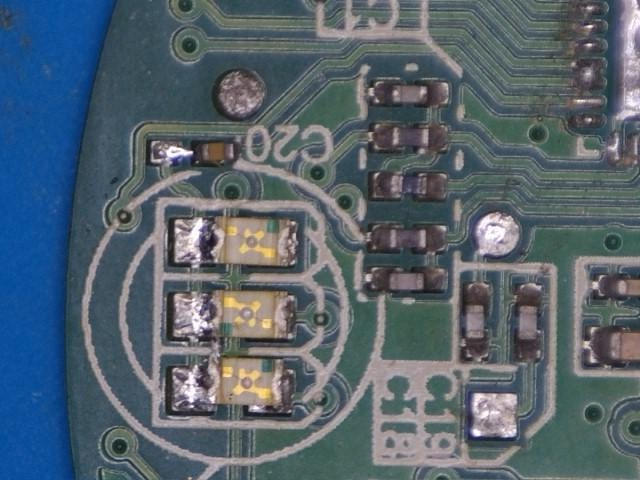pcb_defect: (170, 356, 296, 413), (171, 289, 299, 341), (172, 216, 298, 268), (171, 292, 221, 413), (150, 140, 235, 167), (150, 140, 223, 168), (571, 57, 608, 91)
